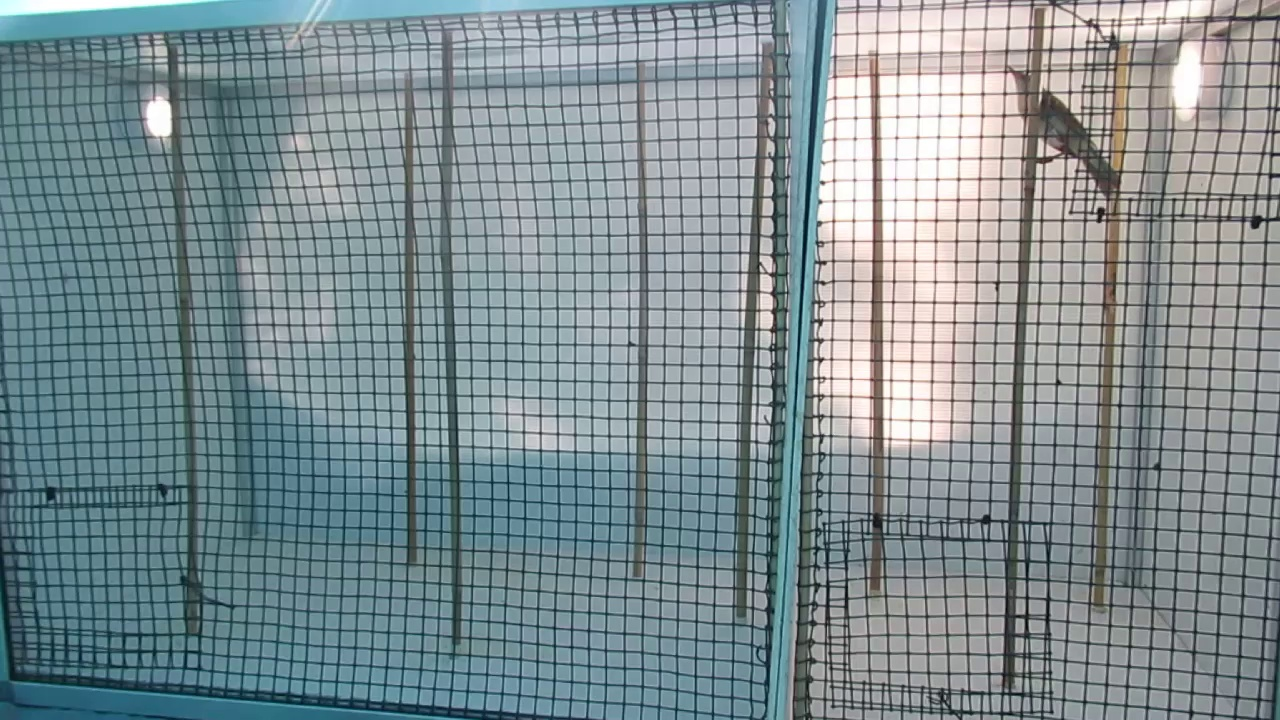bird: (1004, 63, 1108, 200)
stick: (1002, 13, 1046, 684), (733, 46, 777, 617), (1089, 45, 1132, 605), (166, 49, 204, 630), (440, 36, 465, 642), (401, 78, 421, 564), (866, 59, 883, 588), (634, 62, 649, 577)
